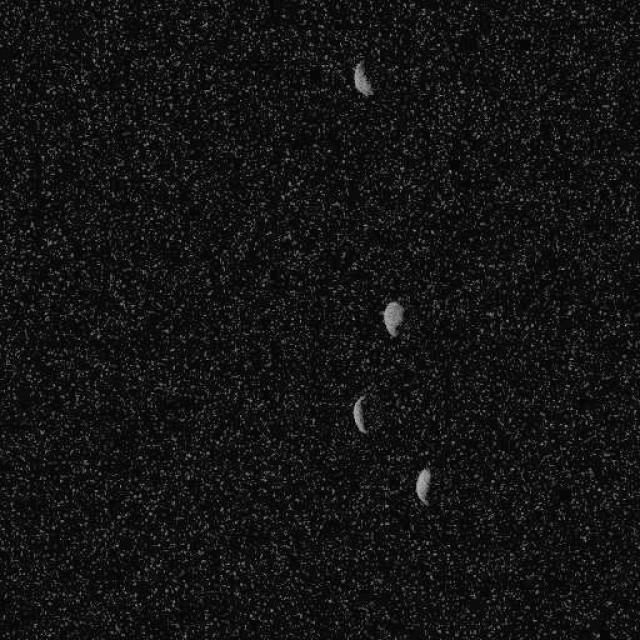D2: (351, 58, 374, 98), (381, 300, 404, 338), (414, 466, 431, 505), (352, 395, 368, 434)
